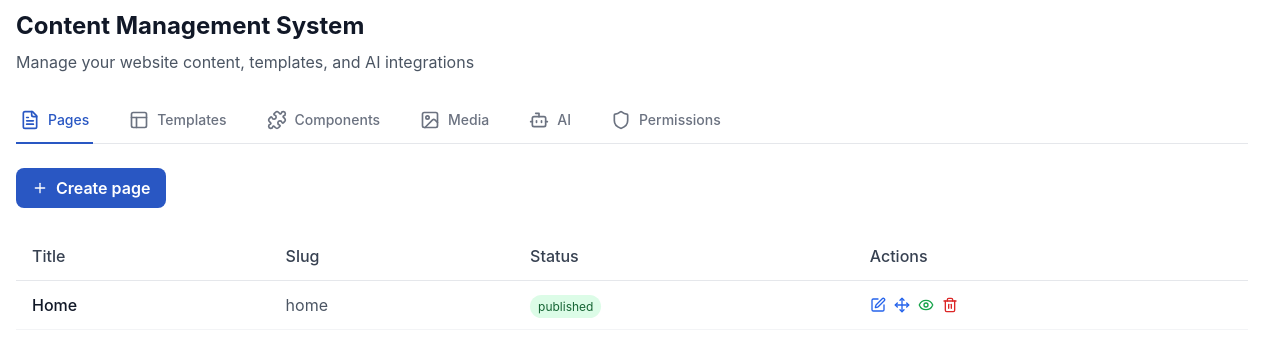
CMSAdminPanel › should switch to components tab and display components
This screenshot has width=1265, height=347.
Note: Switch to components tab
What coordinates should you click on to do the following:
click the button "Components"
I would click on:
 (323, 121)
Its box is x1=262 y1=98 x2=384 y2=144.
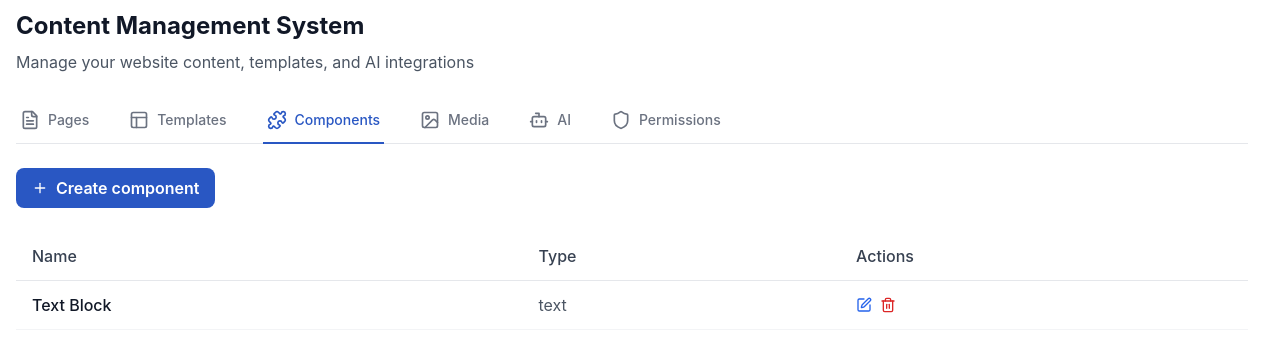
Check: the text "Text Block" is shown, box x1=16 y1=280 x2=522 y2=330
Check: the text "text" is shown, box x1=522 y1=280 x2=840 y2=330
